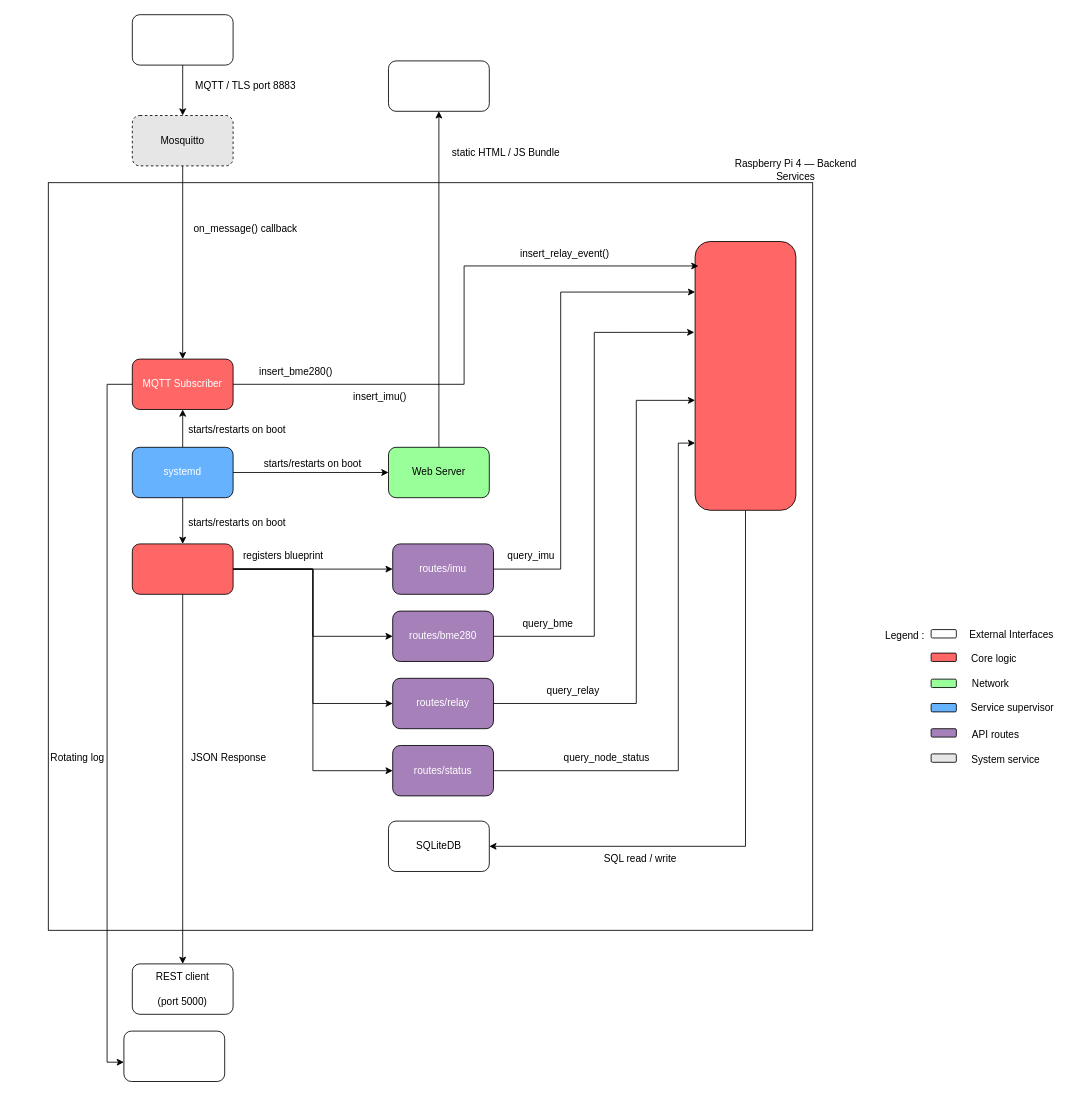
This 1081x1096 diagram has some shape labels left out. The centre of each missing label's shape, as x and y in pixels:
"App(flask)" goes at point 182,568.
"Browser" goes at point 438,85.
"DB" goes at point 745,375.
"Log File" goes at point 174,1056.
"Node B" goes at point 182,39.
